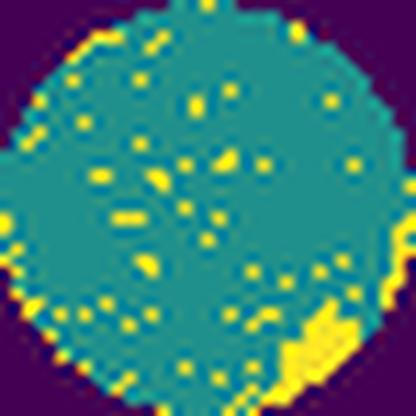Edge-Loc: (250, 293, 362, 416), (375, 207, 415, 312)
